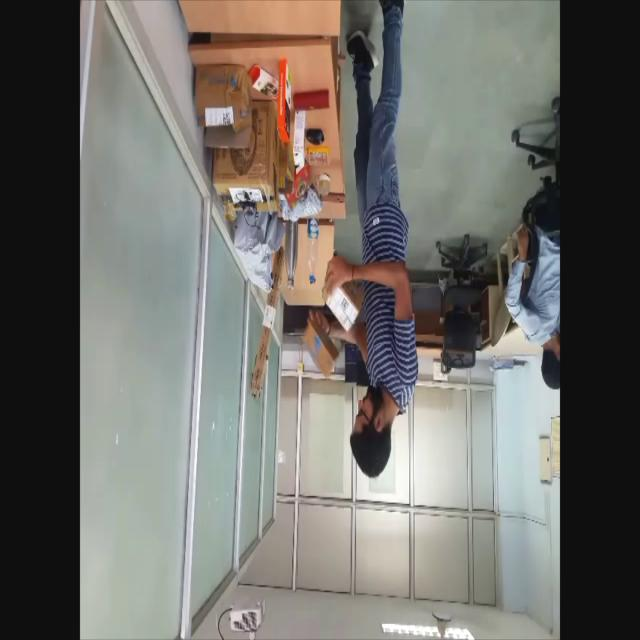normal: (324, 0, 420, 493)
